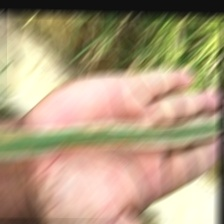Leaf_Blast: (1, 117, 220, 155)
